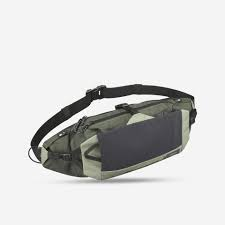bag: (7, 69, 206, 176)
